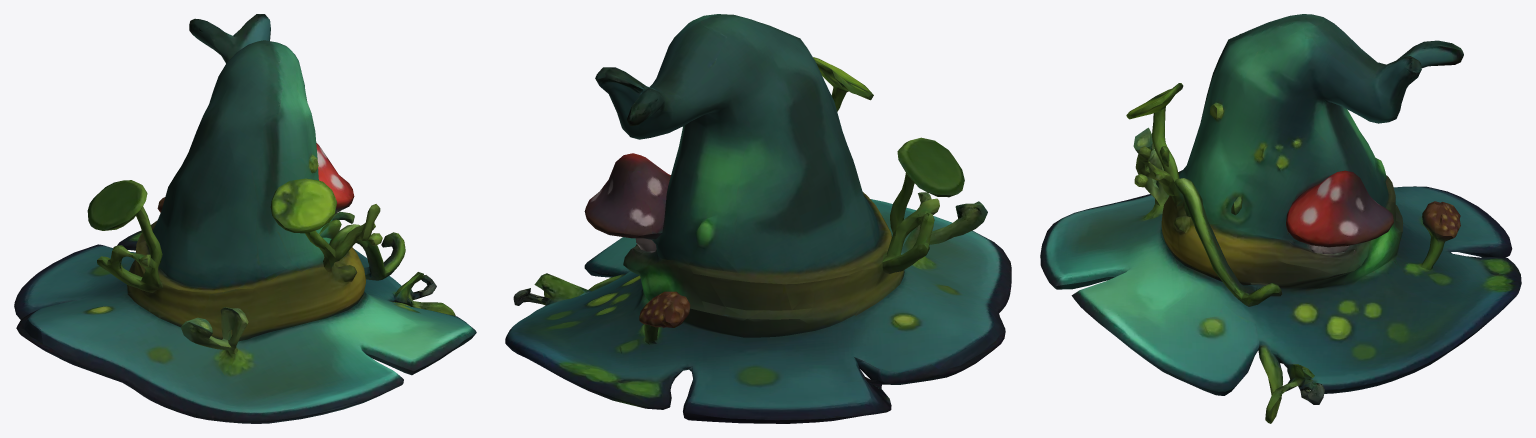
File: marsh_witch_hat.glb
3 renders of one model, left to right at view 1: azimuth 30°, elevation 25°; view 2: azimuth 150°, elevation 25°; view 3: azimuth 270°, elevation 25°, orthographic. The views are drawn at different scales.
Parts seen in each view (by area): view 1: world; view 2: world; view 3: world.
Boxes of the visible parts, x1=… form: world: x1=14, y1=14, x2=476, y2=423; world: x1=505, y1=14, x2=1011, y2=423; world: x1=1040, y1=14, x2=1521, y2=423.
Size of the model in its own units: 0.56 by 0.4297 by 0.5448.
Materials: 1 (1 with a texture image).
